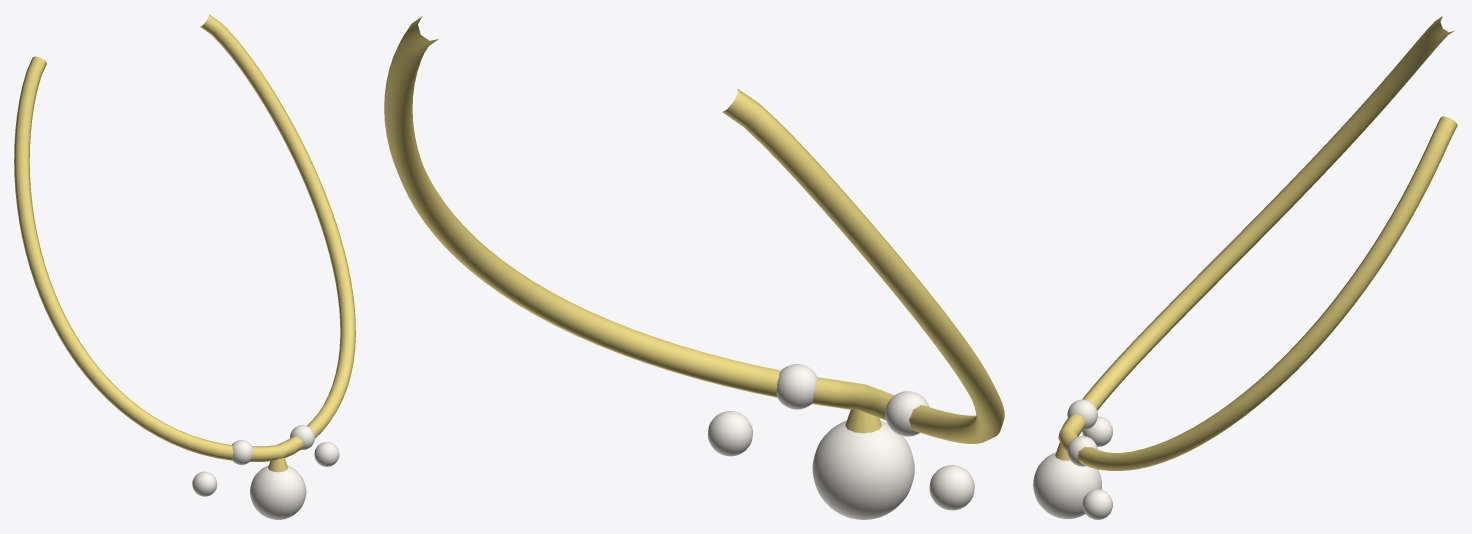
3 views of the same model, side by side, from view 1: azimuth 30°, elevation 25°; view 2: azimuth 150°, elevation 25°; view 3: azimuth 270°, elevation 25° (orthographic). The views are drawn at different scales.
Parts seen in each view (by area): view 1: part (×5); view 2: part (×6); view 3: part (×5).
Boxes of the visible parts, box(x1,y1,x2,y2) form: part (×5): box(14, 14, 355, 519); part (×6): box(384, 16, 1004, 519); part (×5): box(1033, 16, 1457, 519).
Size of the model in its own units: 0.4345 by 0.5184 by 0.4434.
